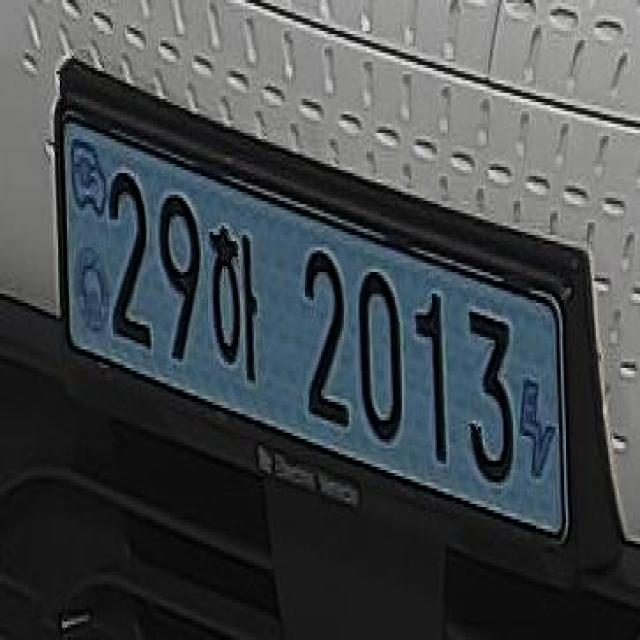EV_plate: (52, 89, 572, 562)
